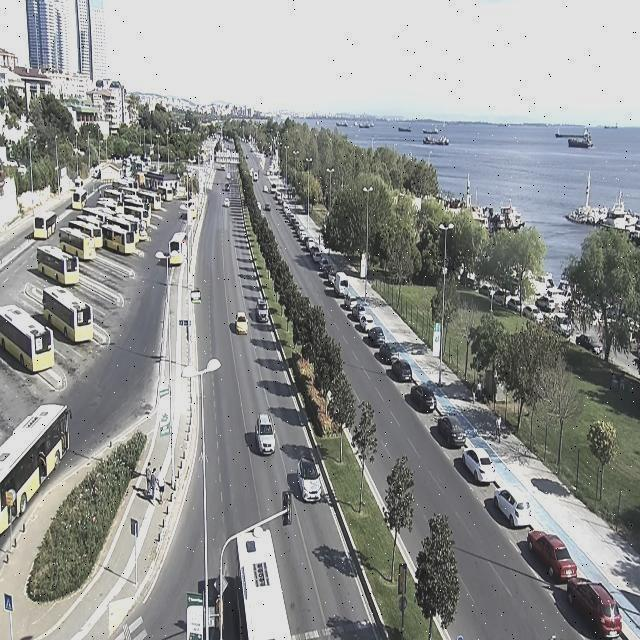Bus: (0, 403, 72, 546), (1, 304, 54, 372), (43, 284, 95, 345), (36, 245, 79, 285), (60, 229, 94, 257), (32, 210, 56, 240), (169, 232, 188, 264), (72, 187, 88, 210)
Car: (566, 578, 620, 636), (528, 530, 575, 582), (494, 487, 535, 527), (463, 448, 497, 483), (297, 456, 321, 504), (438, 415, 468, 446), (256, 412, 276, 456), (410, 384, 437, 410), (378, 342, 404, 364), (576, 334, 603, 354), (391, 358, 414, 381), (366, 326, 386, 346), (234, 311, 249, 336), (358, 312, 376, 332), (255, 299, 269, 322), (522, 304, 542, 320), (493, 291, 513, 307), (352, 300, 369, 318), (536, 296, 555, 312), (343, 293, 358, 311), (506, 297, 524, 312), (306, 238, 320, 255), (478, 284, 494, 296), (312, 250, 324, 264), (326, 274, 336, 288), (275, 192, 283, 202), (223, 198, 230, 207), (224, 183, 230, 191)
Truck: (270, 184, 277, 193), (253, 172, 259, 182)
Van: (332, 272, 352, 298)
